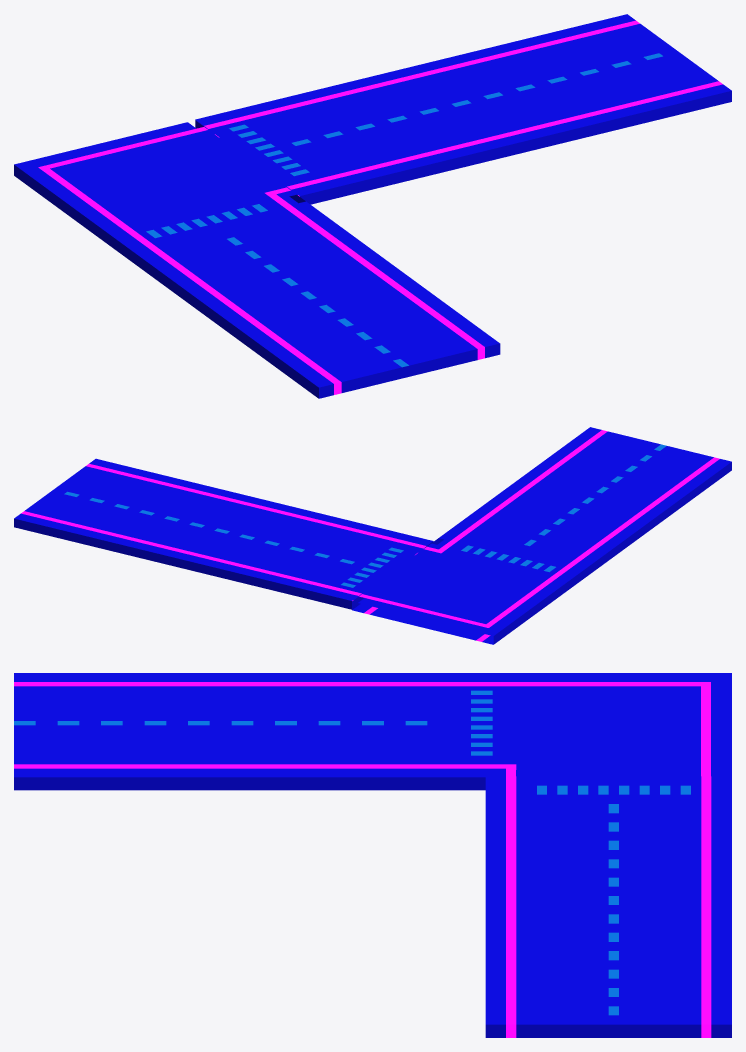
The model's file is RightTurn.fbx.
3 views of the same model, one above another, from view 1: azimuth 30°, elevation 25°; view 2: azimuth 150°, elevation 25°; view 3: azimuth 270°, elevation 25° (orthographic). The views are drawn at different scales.
Visible parts, largest first — view 1: Box008; view 2: Box008; view 3: Box008.
Part boxes in pixels (bbox=[...]): Box008: bbox=[14, 14, 731, 398]; Box008: bbox=[14, 427, 731, 644]; Box008: bbox=[14, 673, 731, 1037].
Size of the model in its own units: 1719 by 31.93 by 1480.
